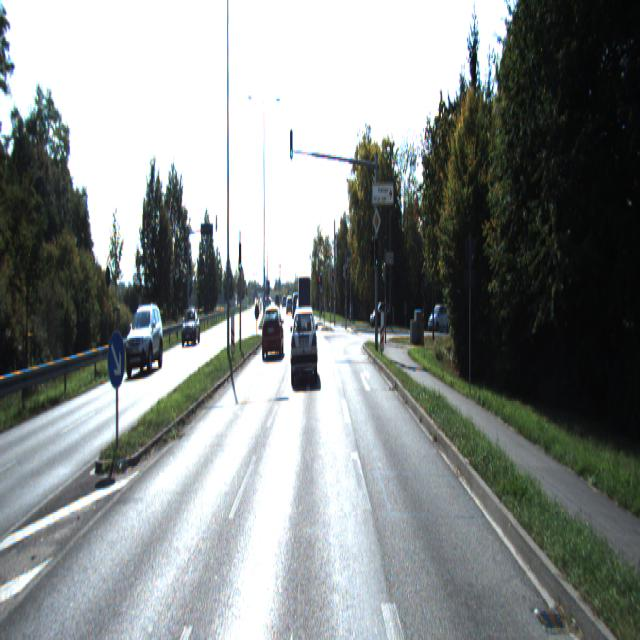Car: (125, 304, 163, 374), (290, 315, 318, 388), (262, 307, 284, 362), (297, 276, 311, 335), (182, 311, 200, 348)
